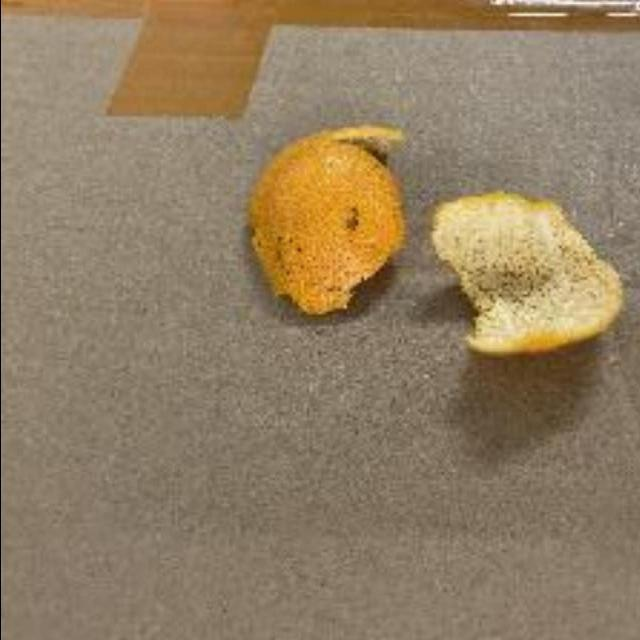orange peel: (428, 190, 620, 361), (251, 120, 408, 322)
